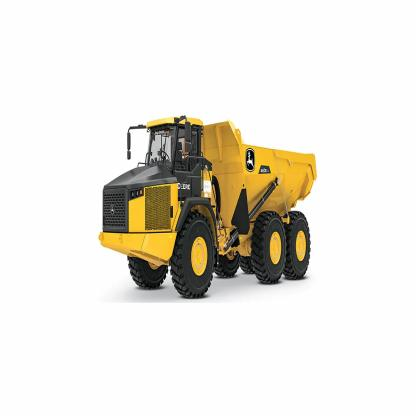dump_truck: (89, 105, 318, 306)
